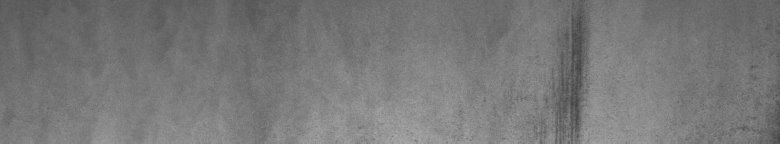ka: (512, 9, 592, 136)
